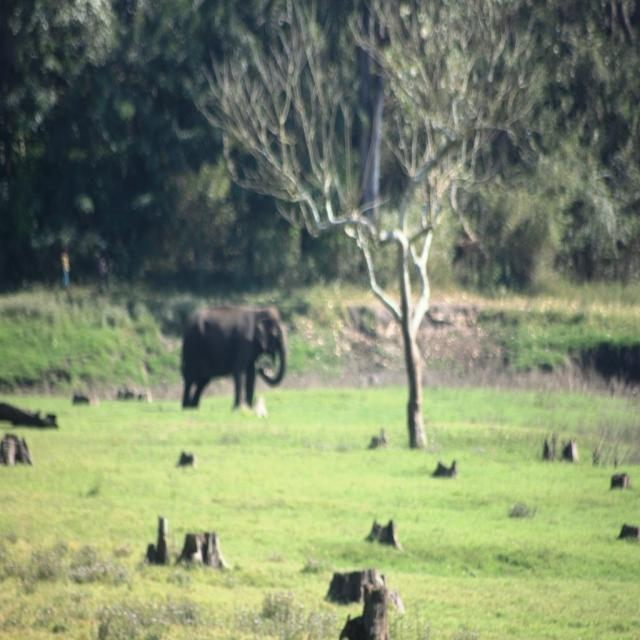Elephant: (172, 300, 290, 422)
